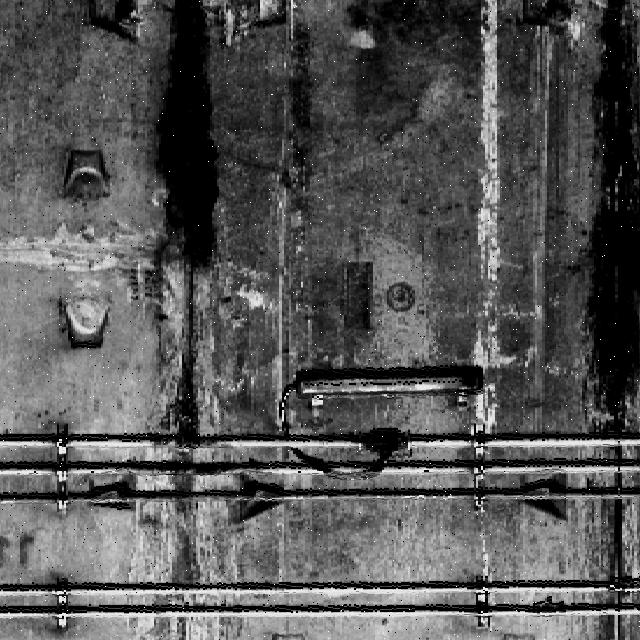leakage: (147, 0, 227, 635), (576, 0, 640, 639)
